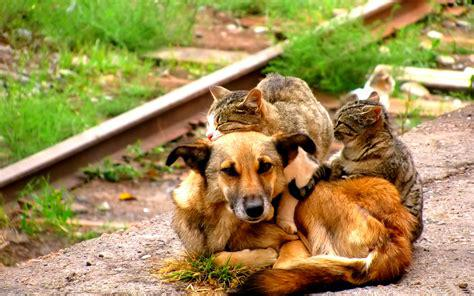cat: (333, 91, 422, 245), (206, 76, 335, 160), (347, 69, 395, 109)
dog: (165, 132, 411, 296)
